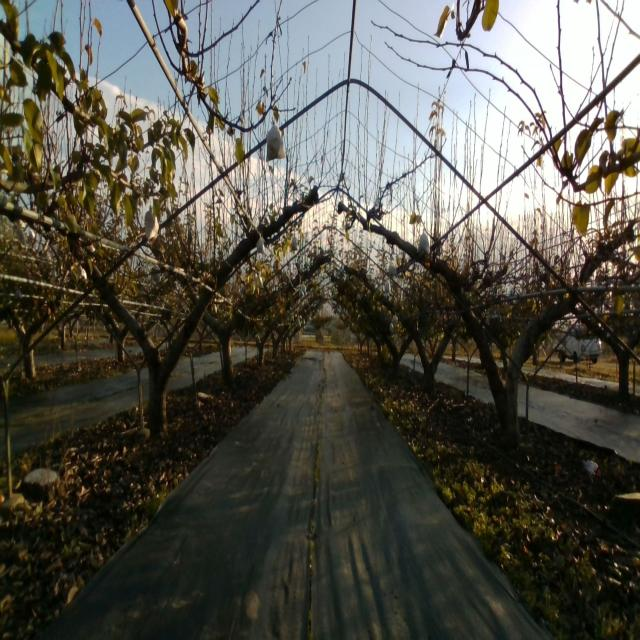pearbags: (266, 116, 286, 161), (144, 211, 160, 241), (417, 228, 431, 255)
